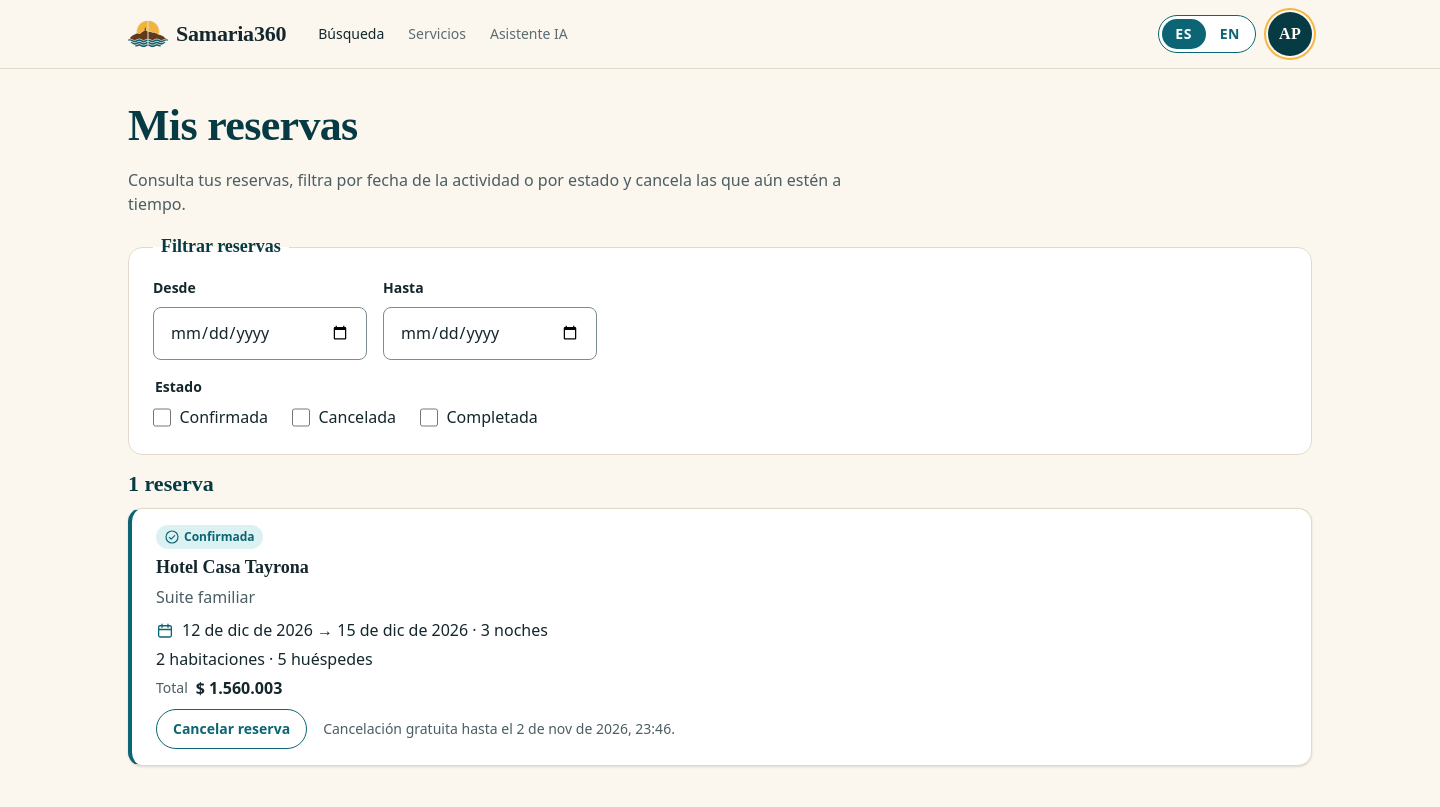
WF-11 «Mis reservas»: cancelar (RF18, RF44) › el 409 de RF44 se muestra en el diálogo y ya no ofrece cancelar
Click the button "Cancelar reserva".
click(232, 729)  # box x1=156 y1=709 x2=307 y2=749
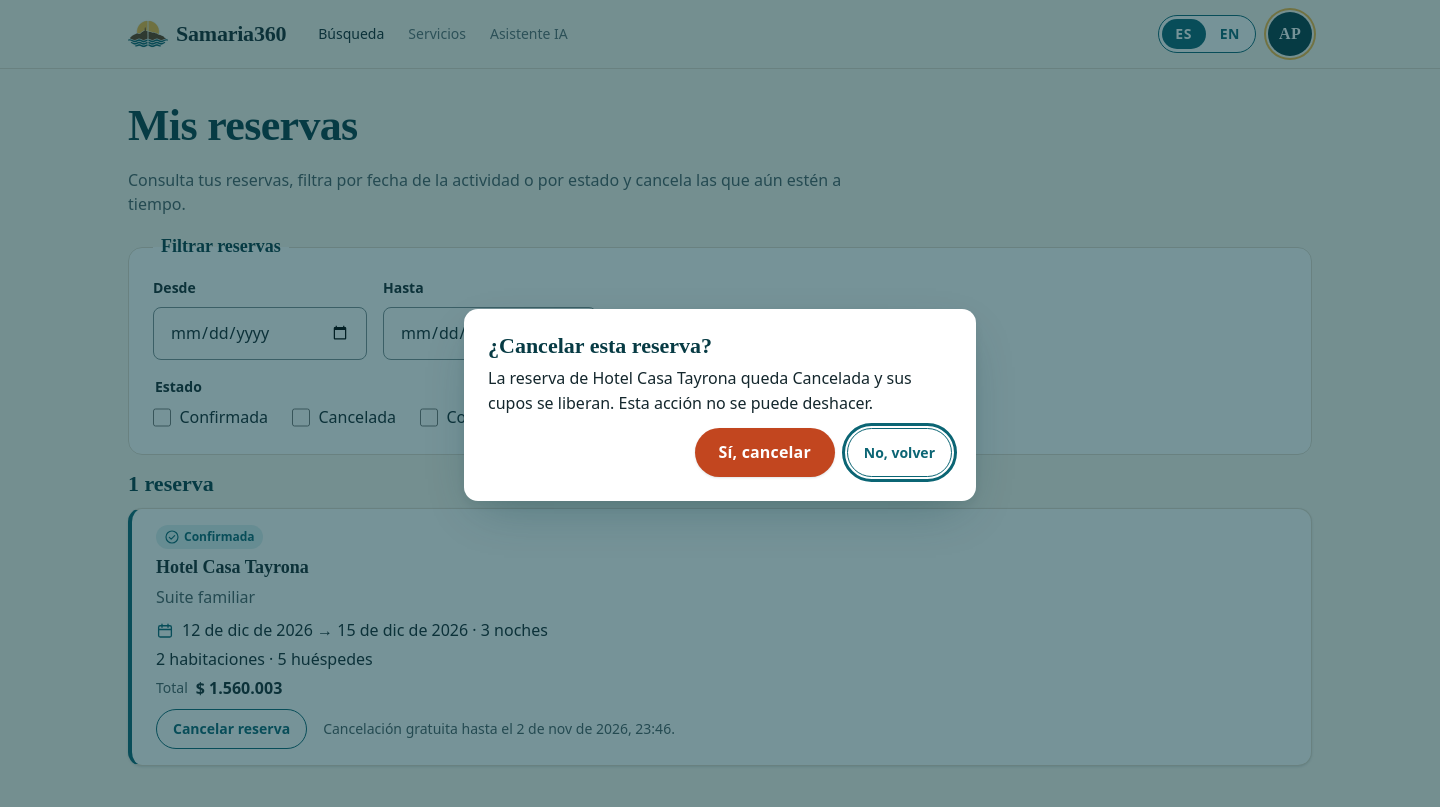
Click the button "Sí, cancelar".
click(765, 452)  # box x1=695 y1=428 x2=835 y2=477
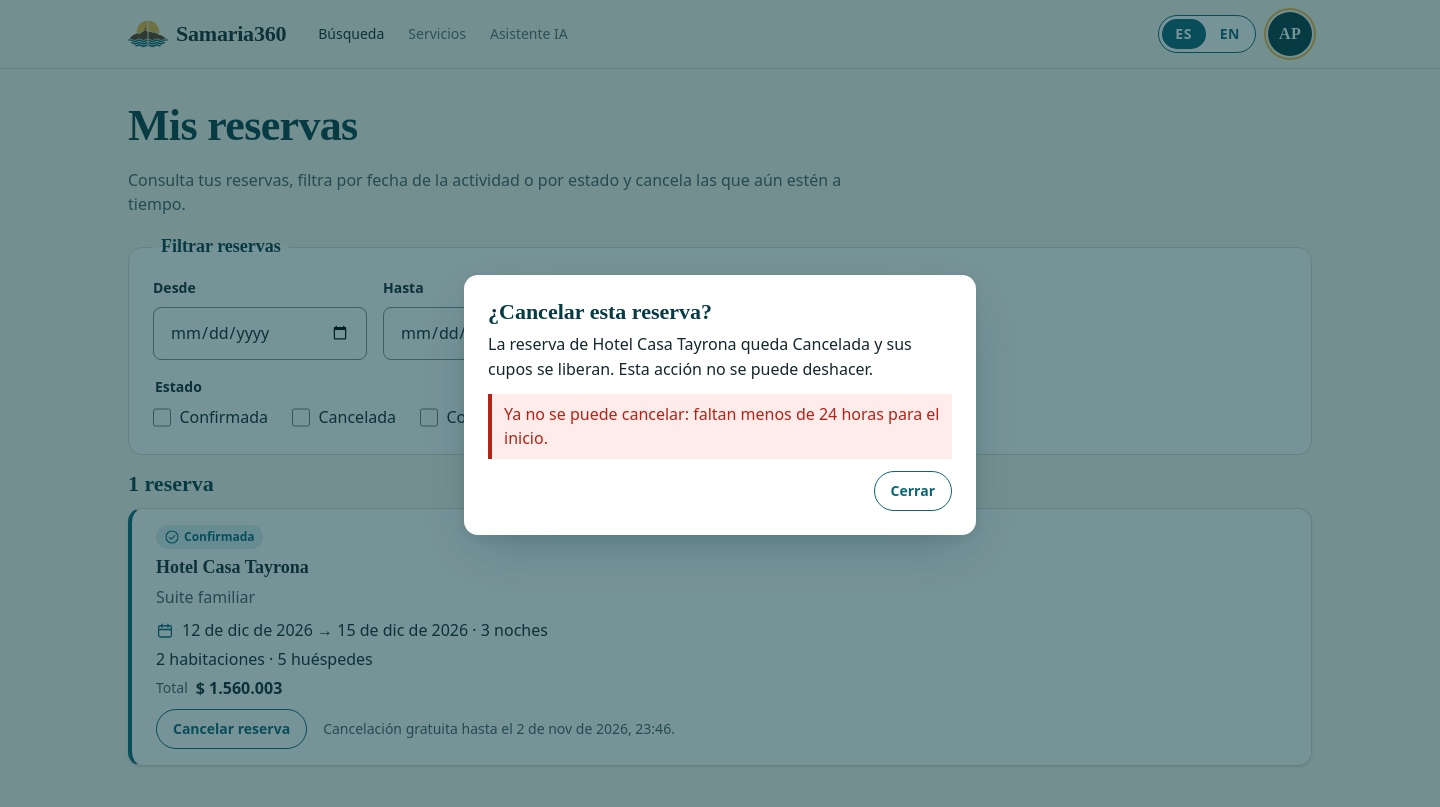
Check: the message shows "faltan menos de 24 horas", box x1=504 y1=403 x2=940 y2=449
Check: the button "Sí, cancelar" is gone
Check: the button "Cerrar" is shown, box x1=874 y1=471 x2=952 y2=511
